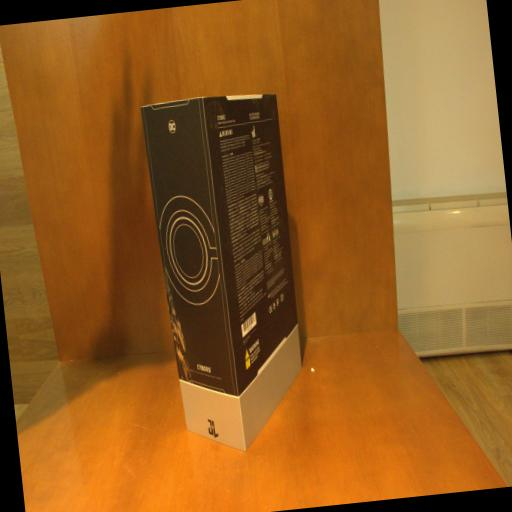Cyborg: (140, 88, 314, 456)
